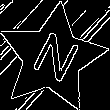N_SW: (23, 26, 81, 89)
